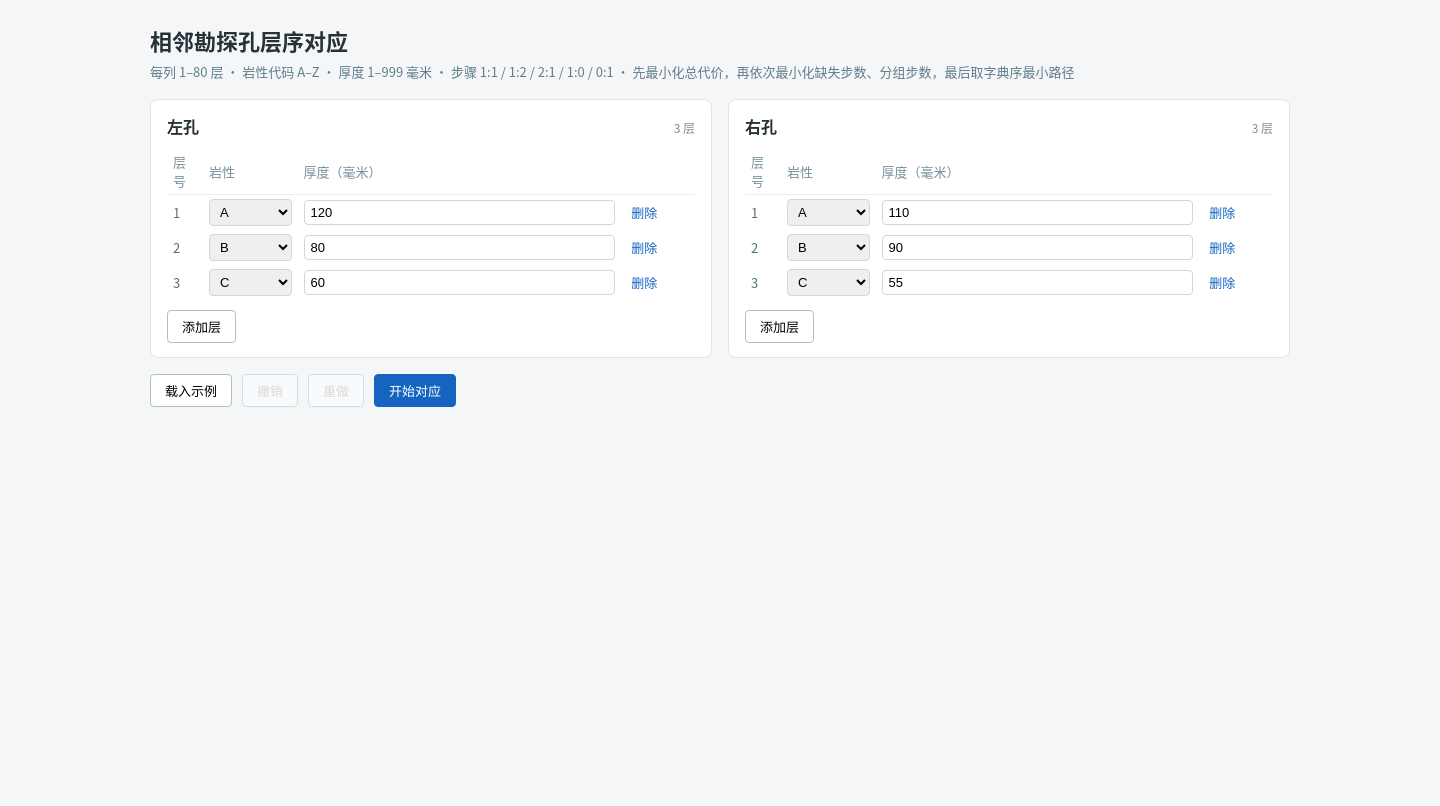
App › 计算后修改任一孔任一层，旧连带图与旧代价立即失效
Click the button "载入示例" at [191, 390], box x1=150 y1=374 x2=232 y2=407
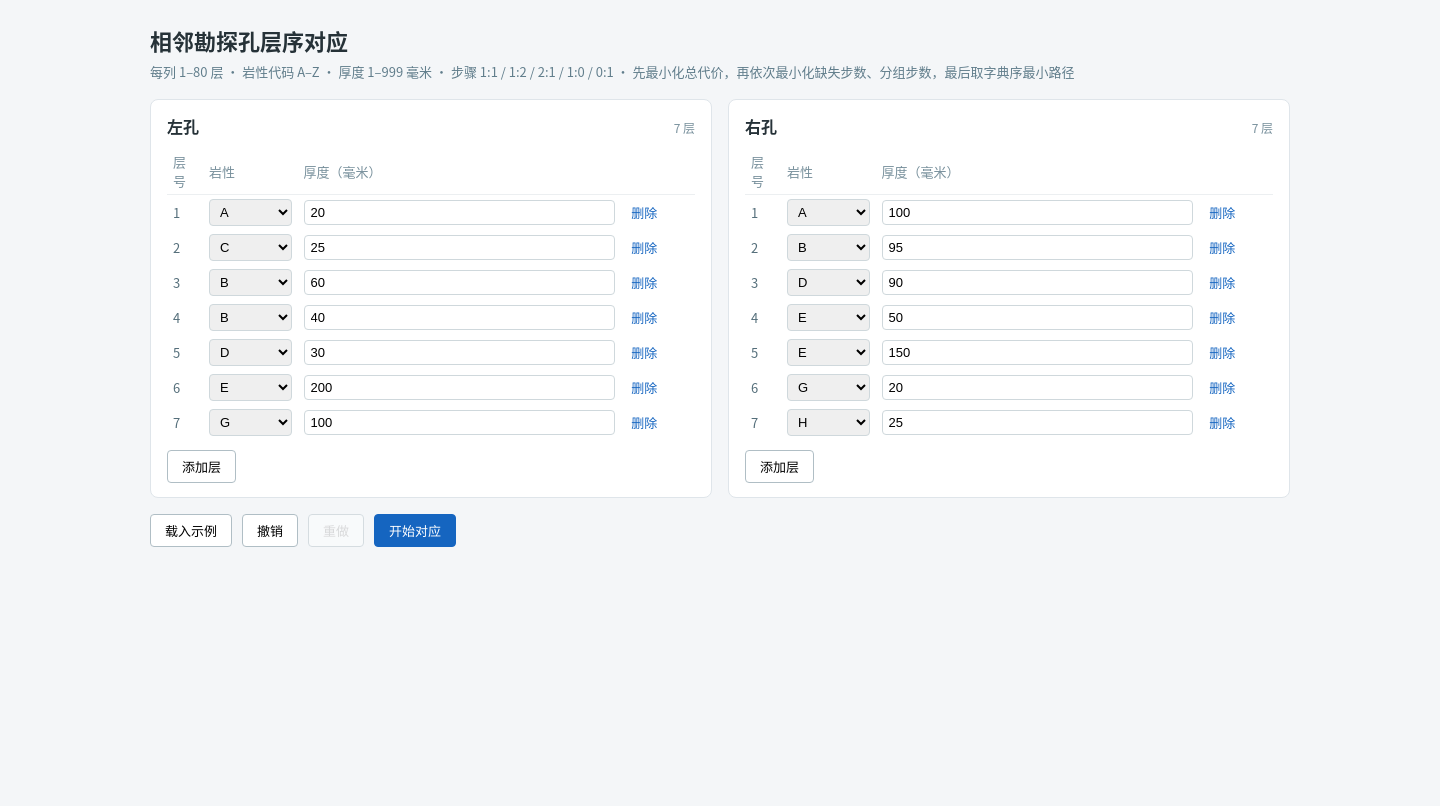
Click the button "开始对应" at [415, 530], box x1=374 y1=514 x2=456 y2=547
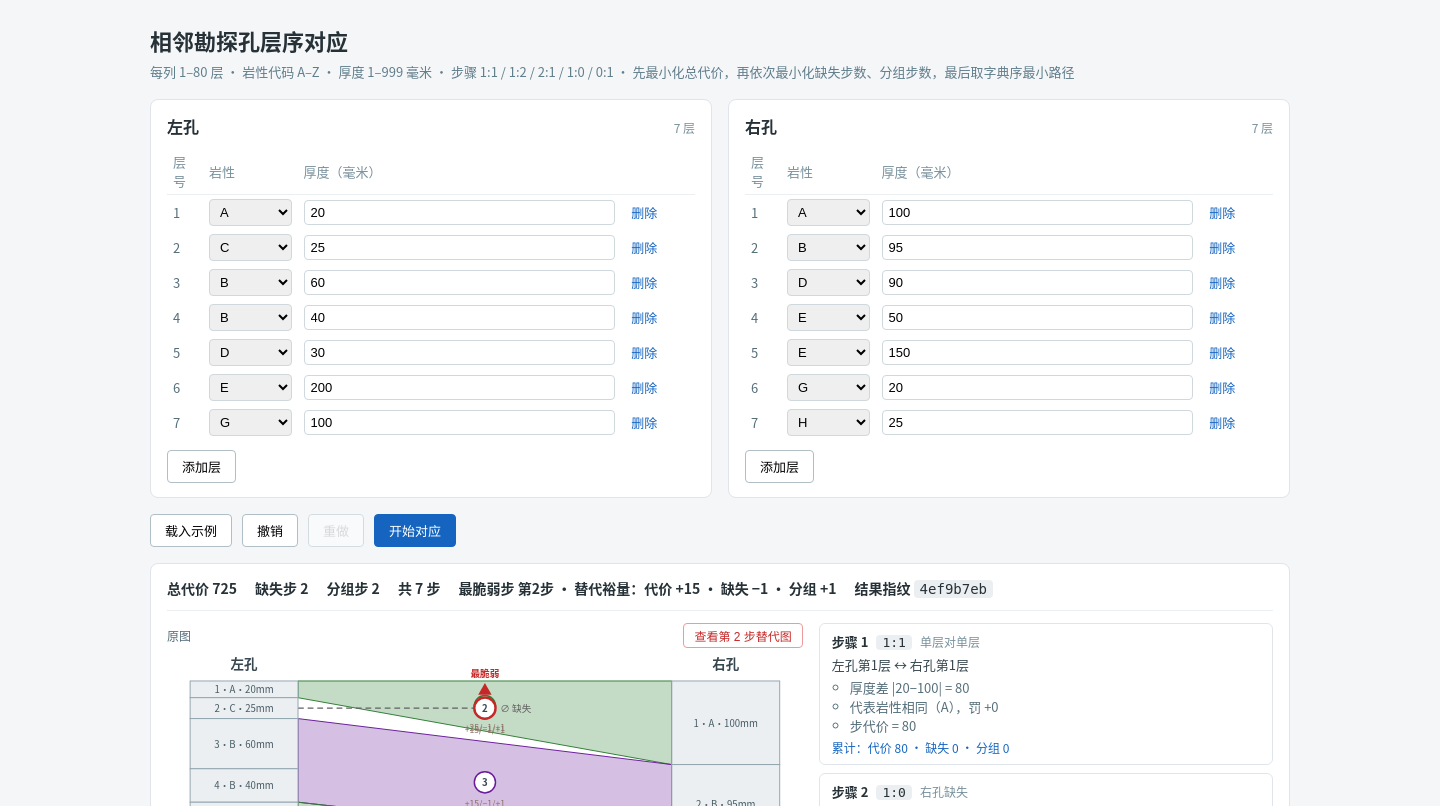
Note: 修改左孔一层：证据失效
Replace the text in the field with test id "layer-thickness-left-0" with "55" at [459, 212], box x1=304 y1=200 x2=615 y2=225
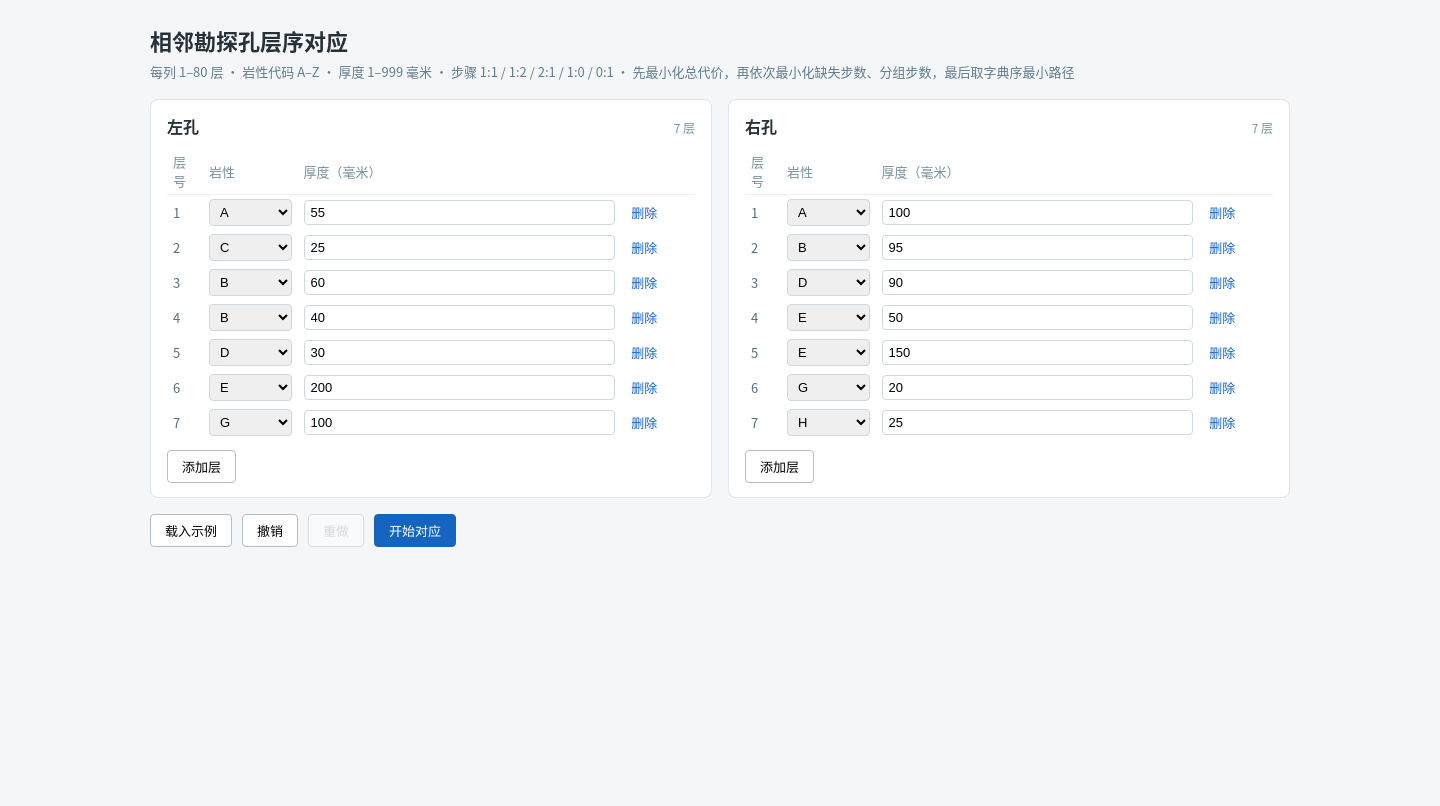
Expected: the element with test id "totals" is gone
Note: 重新计算后修改右孔一层：同样失效
Click the button "开始对应" at [415, 530], box x1=374 y1=514 x2=456 y2=547
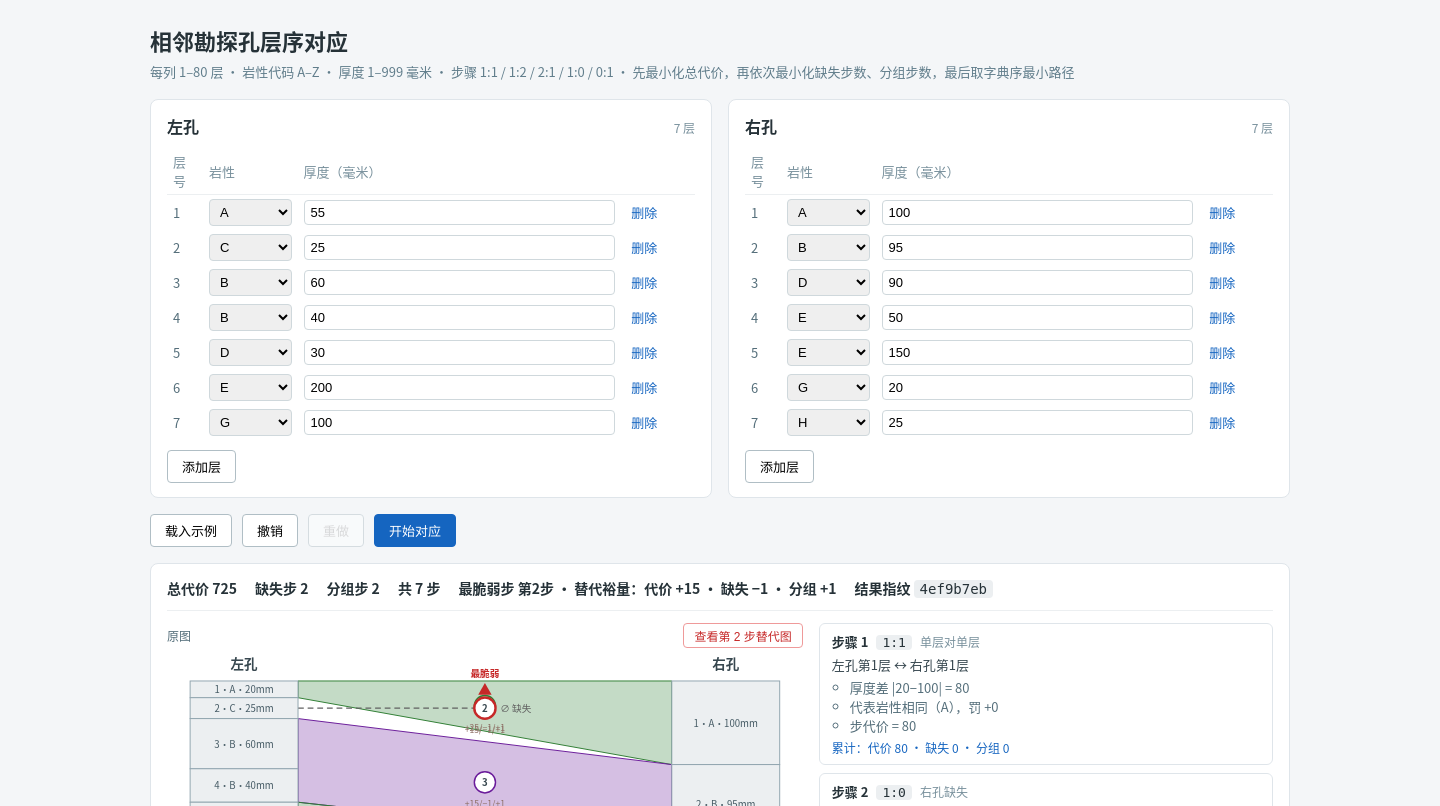
Replace the text in the field with test id "layer-thickness-right-6" with "30" at [1037, 422], box x1=882 y1=410 x2=1193 y2=435
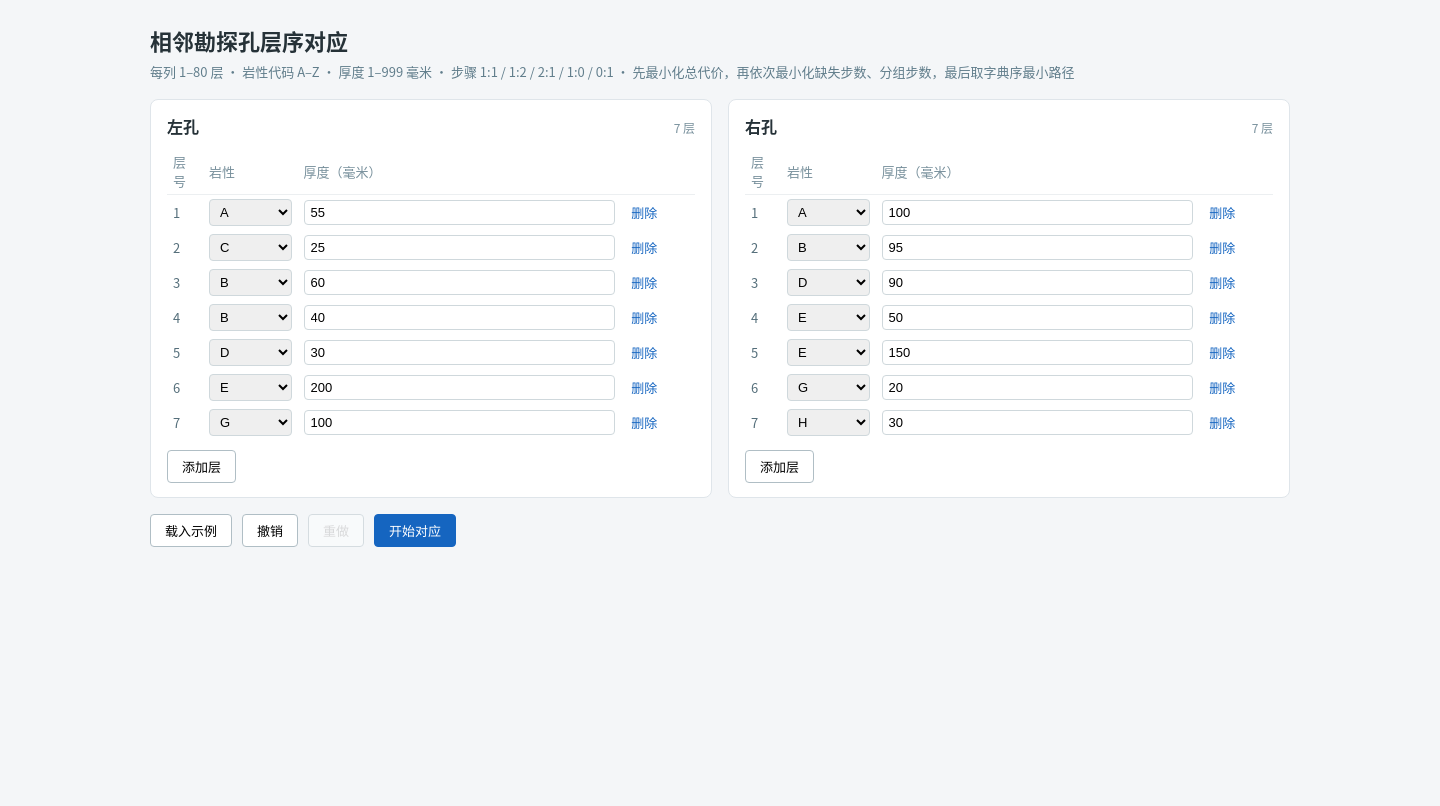
Expected: the element with test id "totals" is gone
